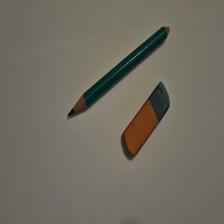eraser: (123, 82, 171, 158)
pencil: (69, 27, 171, 118)
